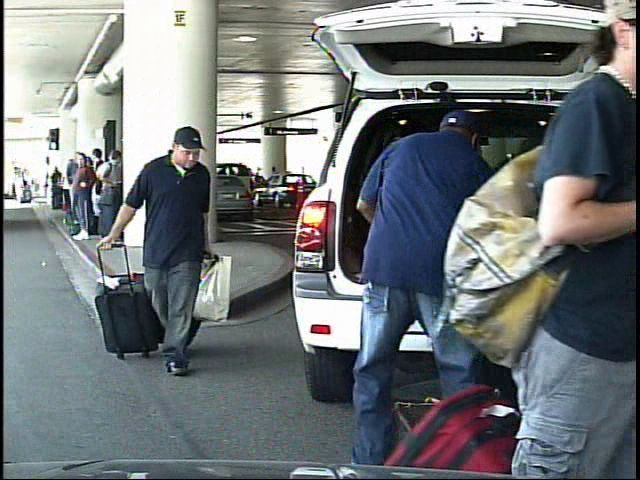person: (462, 12, 640, 476), (315, 97, 501, 476), (96, 121, 233, 383), (14, 173, 24, 204)
